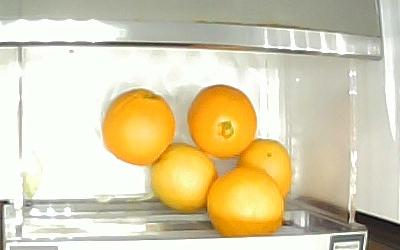orange: (101, 88, 176, 167), (208, 165, 286, 236), (188, 84, 257, 159), (150, 143, 217, 212), (237, 139, 292, 201)
